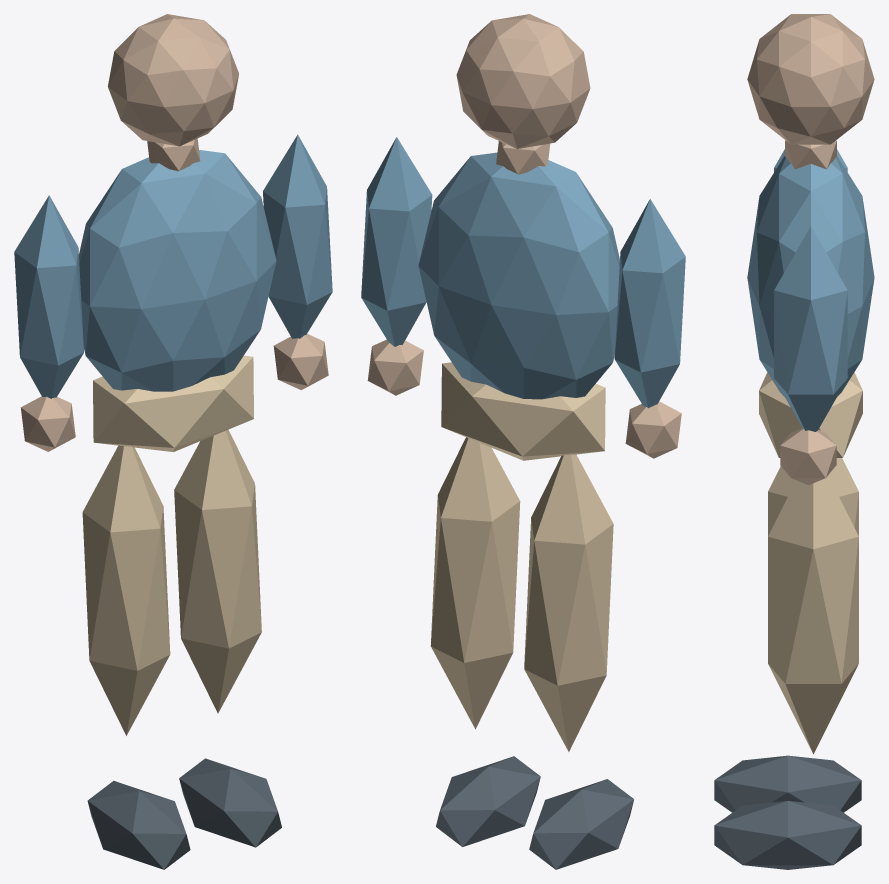
File: Player_Provisorio.fbx
3 renders of one model, left to right at view 1: azimuth 30°, elevation 25°; view 2: azimuth 150°, elevation 25°; view 3: azimuth 270°, elevation 25°, orthographic.
Visible parts, largest first — view 1: Player_Torso, Player_Leg_L, Player_Leg_R, Player_Head, Player_Arm_L, Player_Arm_R, Player_Pelvis, Player_Foot_L, Player_Foot_R, Player_Hand_L, Player_Hand_R, Player_Neck; view 2: Player_Torso, Player_Leg_L, Player_Leg_R, Player_Head, Player_Arm_L, Player_Arm_R, Player_Pelvis, Player_Foot_L, Player_Foot_R, Player_Hand_L, Player_Hand_R, Player_Neck; view 3: Player_Leg_R, Player_Torso, Player_Head, Player_Arm_R, Player_Foot_R, Player_Foot_L, Player_Pelvis, Player_Hand_R, Player_Leg_L, Player_Neck.
Boxes of the visible parts, x1,y1,x2,y2 form: Player_Torso: [79, 150, 276, 391]; Player_Leg_L: [82, 445, 170, 735]; Player_Leg_R: [174, 429, 261, 713]; Player_Head: [108, 14, 238, 146]; Player_Arm_L: [14, 195, 83, 398]; Player_Arm_R: [263, 134, 332, 338]; Player_Pelvis: [93, 355, 253, 451]; Player_Foot_L: [87, 781, 190, 869]; Player_Foot_R: [179, 758, 281, 847]; Player_Hand_L: [20, 396, 75, 451]; Player_Hand_R: [273, 334, 328, 389]; Player_Neck: [147, 138, 200, 171]; Player_Torso: [418, 152, 619, 399]; Player_Leg_L: [524, 454, 613, 751]; Player_Leg_R: [430, 437, 520, 729]; Player_Head: [456, 14, 590, 148]; Player_Arm_L: [614, 199, 685, 408]; Player_Arm_R: [361, 137, 432, 346]; Player_Pelvis: [441, 362, 605, 460]; Player_Foot_L: [529, 779, 633, 869]; Player_Foot_R: [436, 756, 540, 846]; Player_Hand_L: [625, 401, 681, 458]; Player_Hand_R: [367, 339, 423, 395]; Player_Neck: [496, 141, 550, 174]; Player_Leg_R: [768, 475, 858, 754]; Player_Torso: [747, 156, 874, 396]; Player_Head: [747, 14, 874, 144]; Player_Arm_R: [774, 226, 847, 431]; Player_Foot_R: [714, 801, 861, 869]; Player_Foot_L: [714, 755, 861, 812]; Player_Pelvis: [759, 372, 862, 457]; Player_Hand_R: [780, 428, 836, 485]; Player_Leg_L: [768, 458, 858, 535]; Player_Neck: [785, 140, 836, 169].
Bounding box in the file's own units: 0.7042 × 1.8 × 0.3146.
